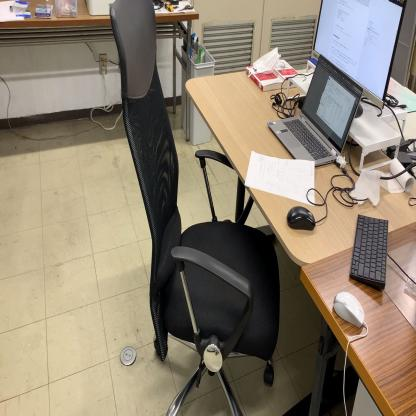chair: (110, 1, 279, 416)
